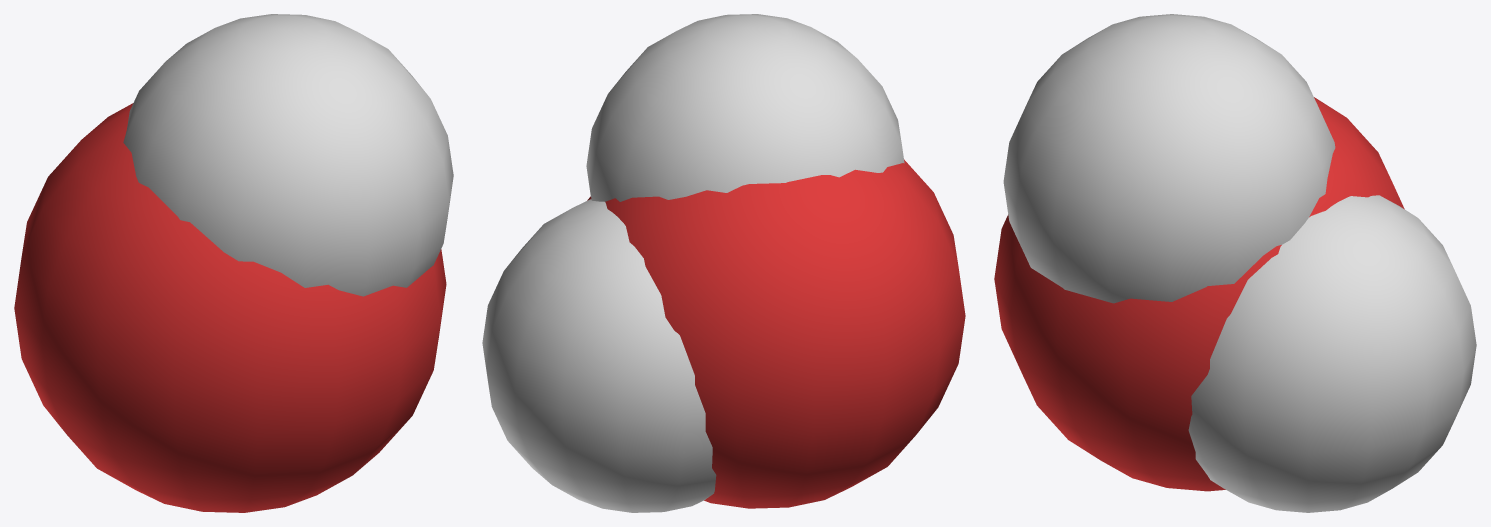
The model's file is water-cpk.glb.
3 renders of one model, left to right at view 1: azimuth 30°, elevation 25°; view 2: azimuth 150°, elevation 25°; view 3: azimuth 270°, elevation 25°, orthographic. The views are drawn at different scales.
Visible parts, largest first — view 1: water-cpk; view 2: water-cpk; view 3: water-cpk.
Boxes of the visible parts, left/top/right/bottom form: water-cpk: left=14, top=14, right=453, bottom=512; water-cpk: left=482, top=14, right=965, bottom=512; water-cpk: left=994, top=14, right=1476, bottom=512.
Size of the model in its own units: 3.33 by 3.61 by 3.44.
